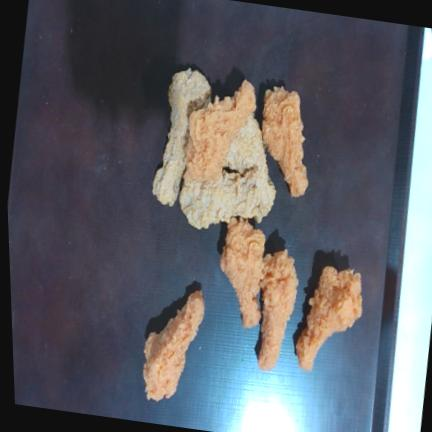chicken: (152, 68, 211, 206), (185, 80, 255, 180), (295, 266, 362, 369), (143, 290, 204, 400), (179, 170, 275, 228), (262, 86, 308, 196), (220, 217, 265, 327), (258, 249, 298, 370)
